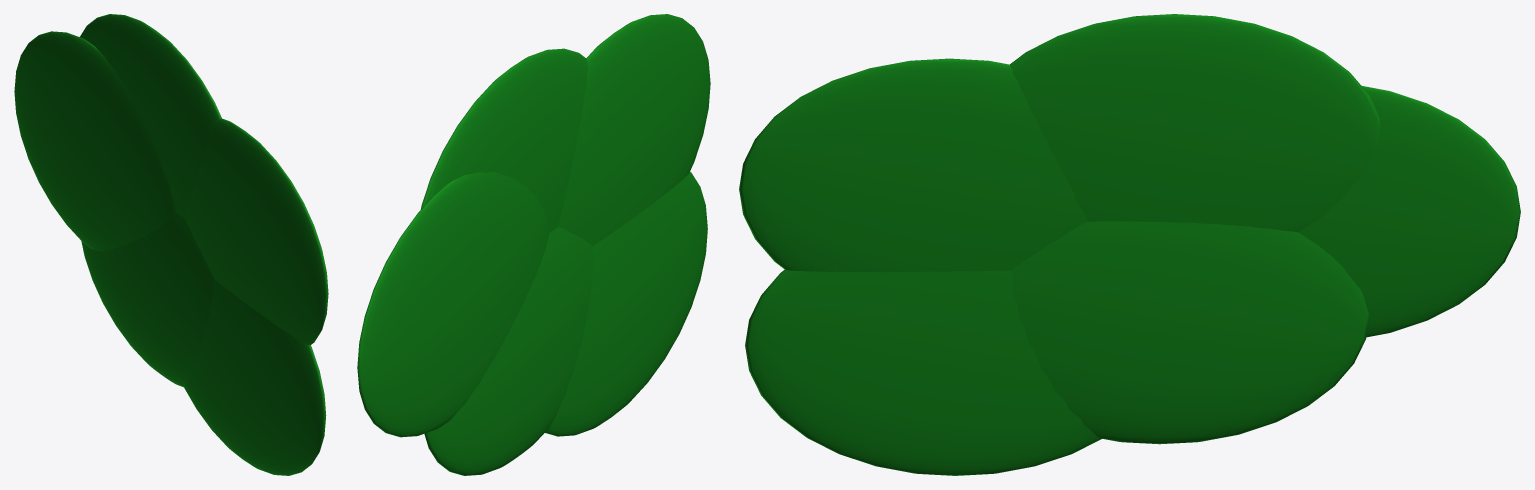
File: Bushes_No_Board.FBX
3 views of the same model, side by side, from view 1: azimuth 30°, elevation 25°; view 2: azimuth 150°, elevation 25°; view 3: azimuth 270°, elevation 25° (orthographic). The views are drawn at different scales.
Parts seen in each view (by area): view 1: Sphere012, Sphere009, Sphere007, Sphere008, Sphere010; view 2: Sphere012, Sphere009, Sphere007, Sphere008, Sphere010; view 3: Sphere008, Sphere010, Sphere009, Sphere007, Sphere012.
Part boxes in pixels (x1=…): Sphere012: x1=14, y1=31, x2=175, y2=251; Sphere009: x1=184, y1=118, x2=328, y2=345; Sphere007: x1=184, y1=279, x2=326, y2=475; Sphere008: x1=81, y1=212, x2=213, y2=387; Sphere010: x1=80, y1=14, x2=221, y2=217; Sphere012: x1=357, y1=172, x2=549, y2=437; Sphere009: x1=558, y1=14, x2=710, y2=245; Sphere007: x1=545, y1=172, x2=707, y2=436; Sphere008: x1=424, y1=227, x2=593, y2=475; Sphere010: x1=420, y1=48, x2=588, y2=232; Sphere008: x1=1012, y1=221, x2=1369, y2=444; Sphere010: x1=1009, y1=14, x2=1379, y2=232; Sphere009: x1=739, y1=58, x2=1087, y2=272; Sphere007: x1=745, y1=269, x2=1101, y2=475; Sphere012: x1=1299, y1=86, x2=1520, y2=337.
Size of the model in its own units: 3.84 by 56.19 by 86.19.
